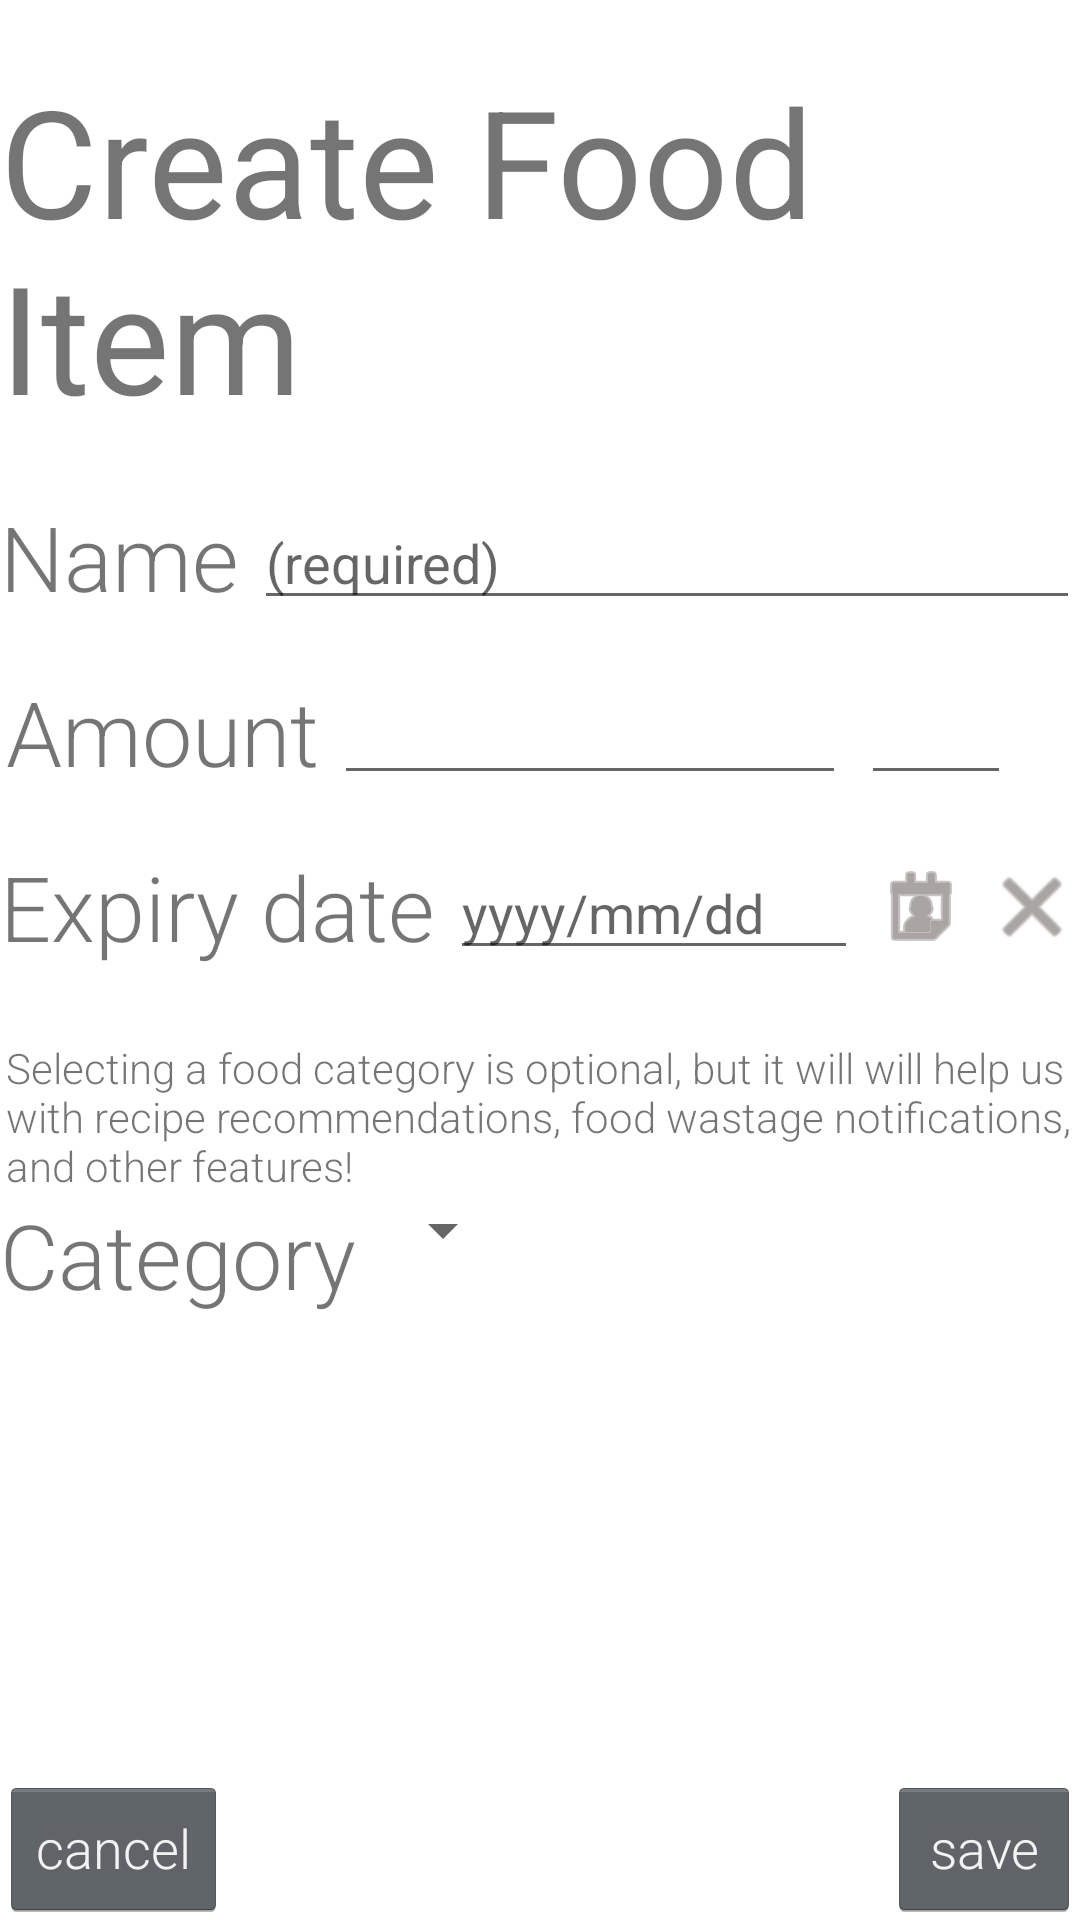

Where icons sit on this 1080*1920 app screen, as (x1, y1, x2, y2):
close clear cancel: (1002, 877, 1062, 937)
